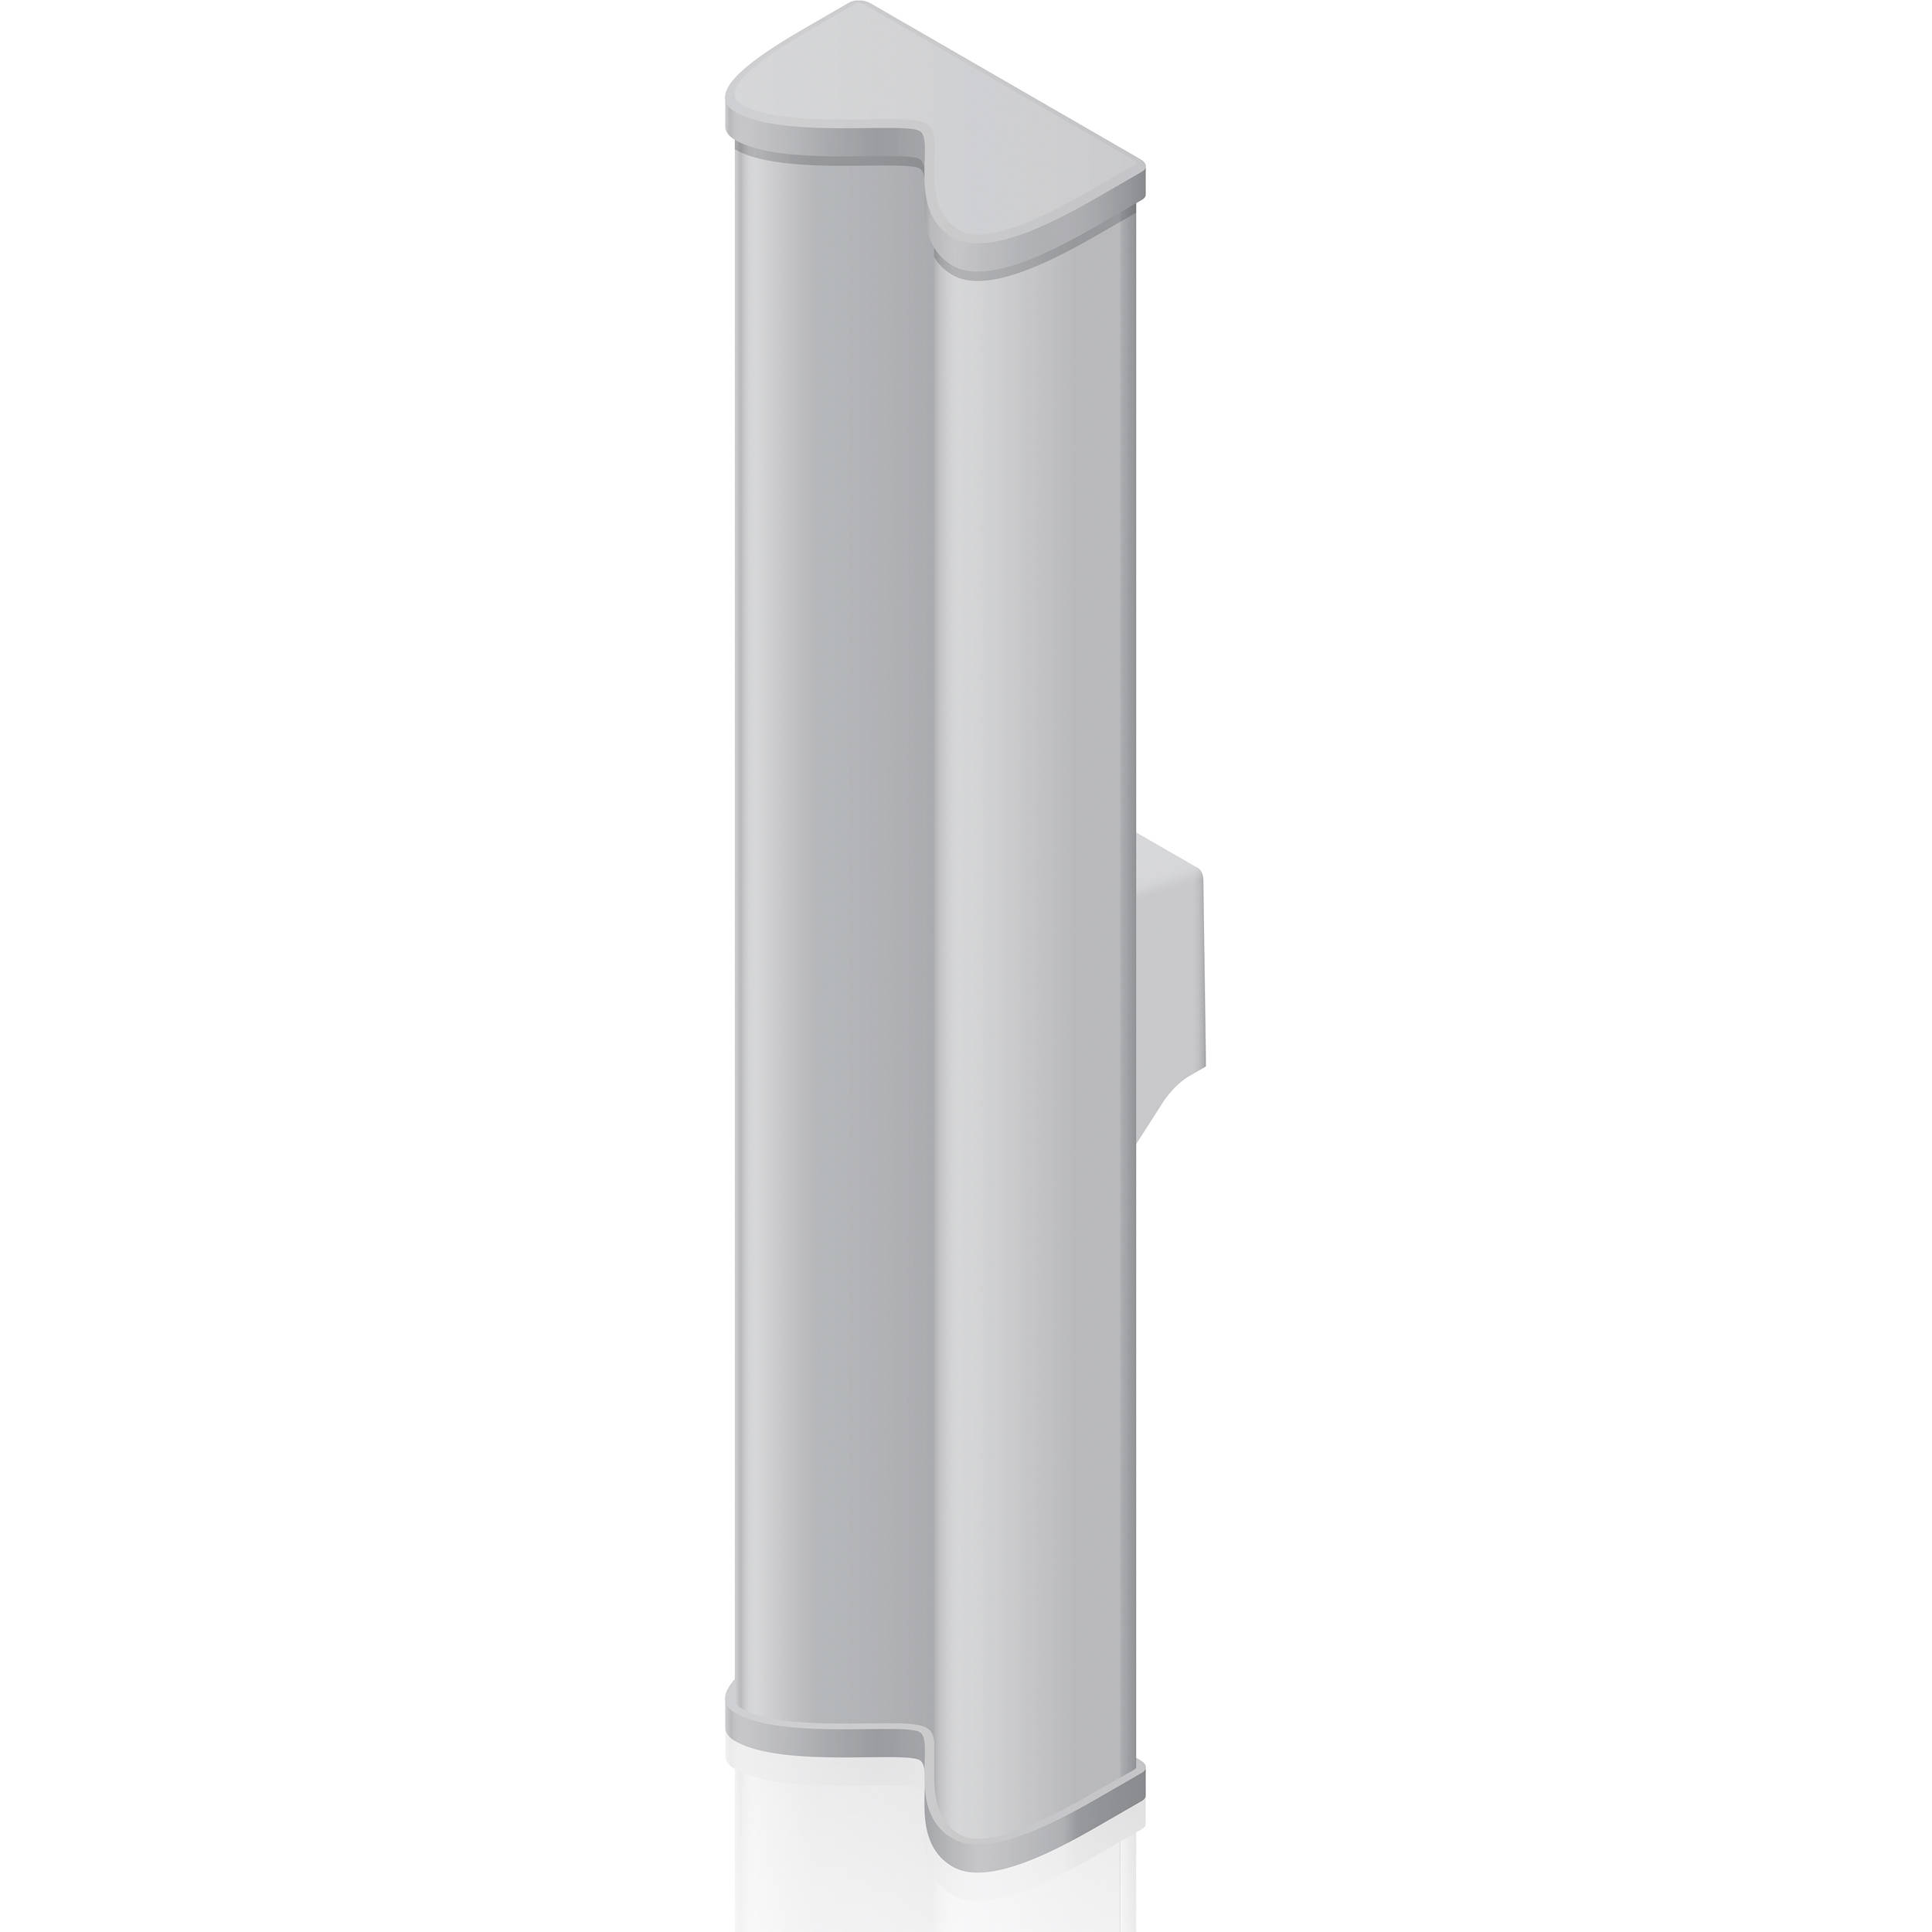sa: (683, 42, 1219, 1902)
